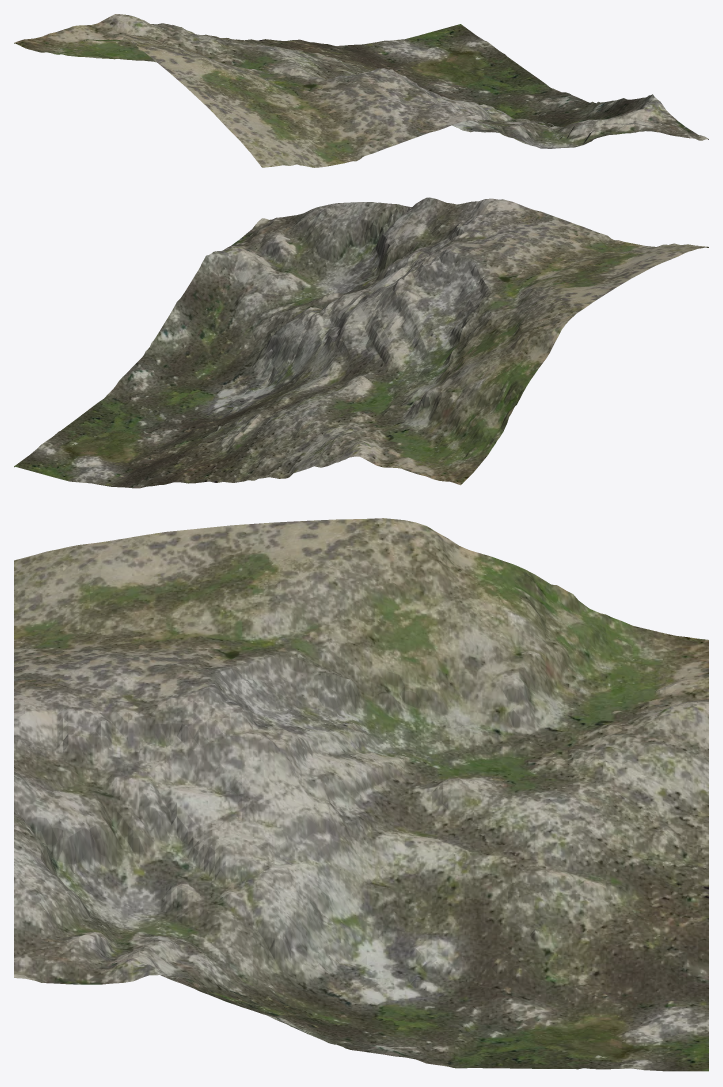
3 views of the same model, one above another, from view 1: azimuth 30°, elevation 25°; view 2: azimuth 150°, elevation 25°; view 3: azimuth 270°, elevation 25° (orthographic). The views are drawn at different scales.
Bounding box in the file's own units: 1000 × 385 × 963.
1 material, 1 textured.
